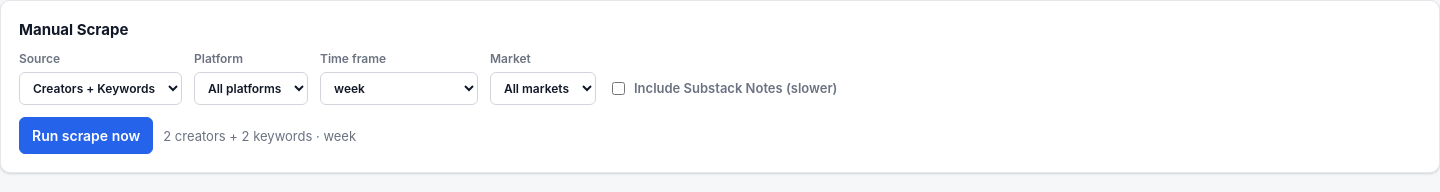
Test case: ManualScrape › marks the pill failed when the scrape request errors (non-412)
Click the button "Run scrape now": [86, 135] box [19,116,153,154]
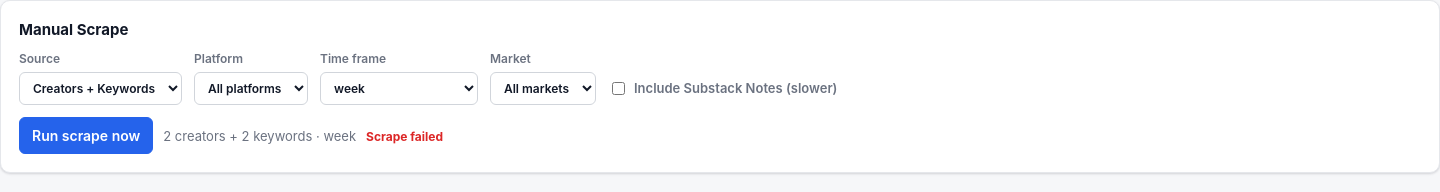
Expected: the text "Scrape failed" is shown, [366,128,443,146]
